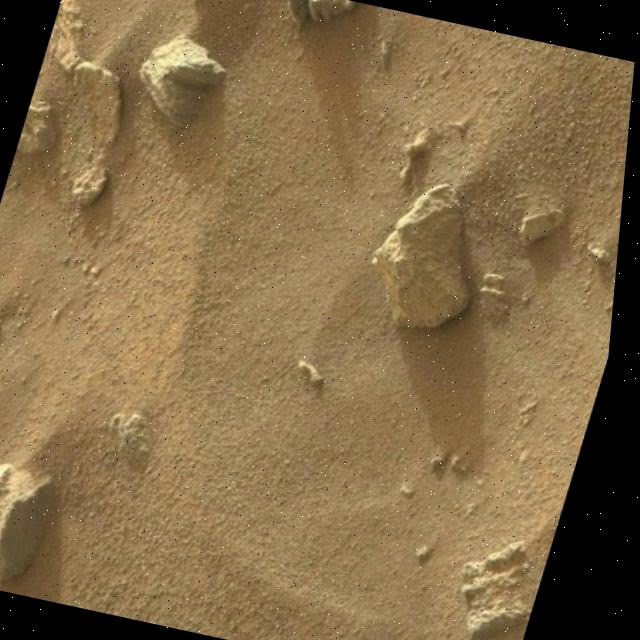rock: (0, 483, 224, 640), (398, 208, 509, 382), (373, 180, 476, 328), (62, 58, 121, 204), (140, 33, 226, 122), (0, 465, 54, 582), (153, 71, 226, 143), (522, 207, 573, 267), (112, 72, 140, 149), (81, 174, 112, 217), (405, 148, 430, 191), (459, 178, 488, 202)
